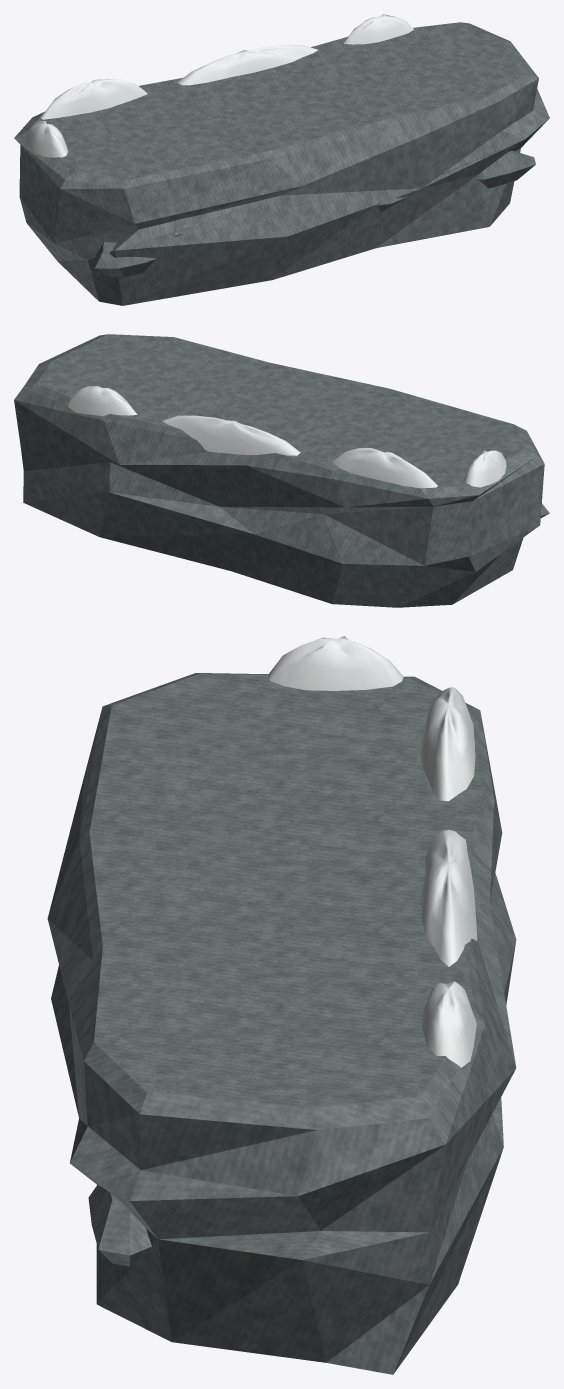
The picture shows the model from 3 angles, top to bottom: view 1: azimuth 30°, elevation 25°; view 2: azimuth 150°, elevation 25°; view 3: azimuth 270°, elevation 25°; orthographic projection. The views are drawn at different scales.
Visible parts, largest first — view 1: Mesh_rock, Mesh_snow; view 2: Mesh_rock, Mesh_snow; view 3: Mesh_rock, Mesh_snow.
Boxes of the visible parts, box(x1,y1,x2,y2) form: Mesh_rock: box(14, 22, 549, 305); Mesh_snow: box(24, 14, 413, 157); Mesh_rock: box(14, 334, 549, 607); Mesh_snow: box(68, 386, 506, 488); Mesh_rock: box(47, 673, 516, 1374); Mesh_snow: box(267, 636, 477, 1067).
Size of the model in its own units: 2.38 by 0.7076 by 0.9852.
Materials: 2 (2 with a texture image).
